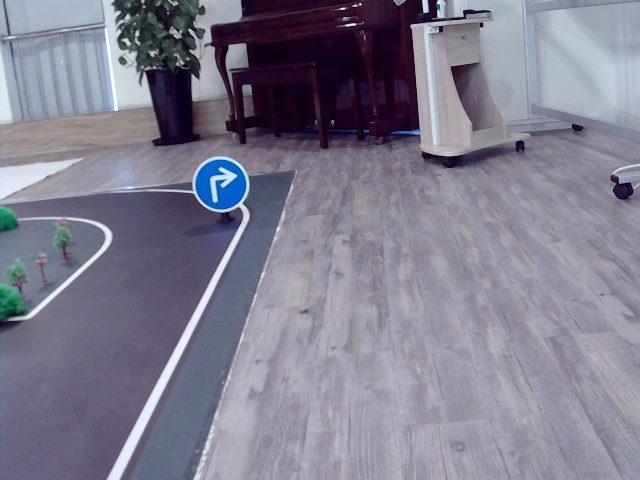turn_right: (201, 169, 237, 199)
